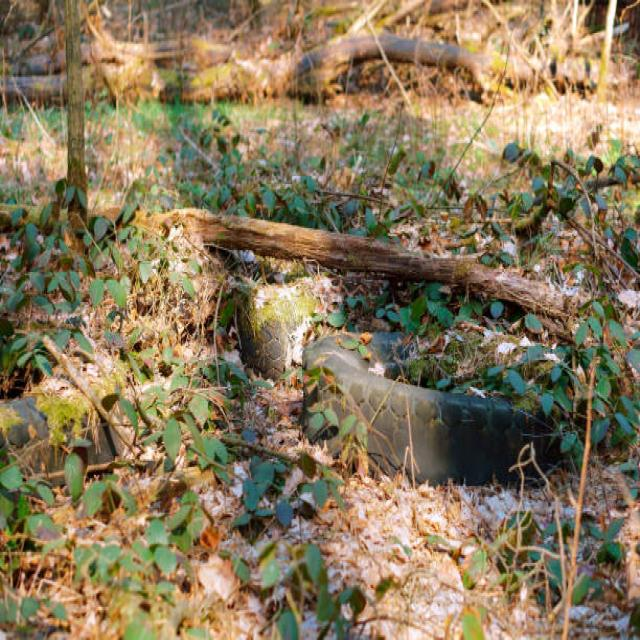tire: (300, 329, 564, 489)
